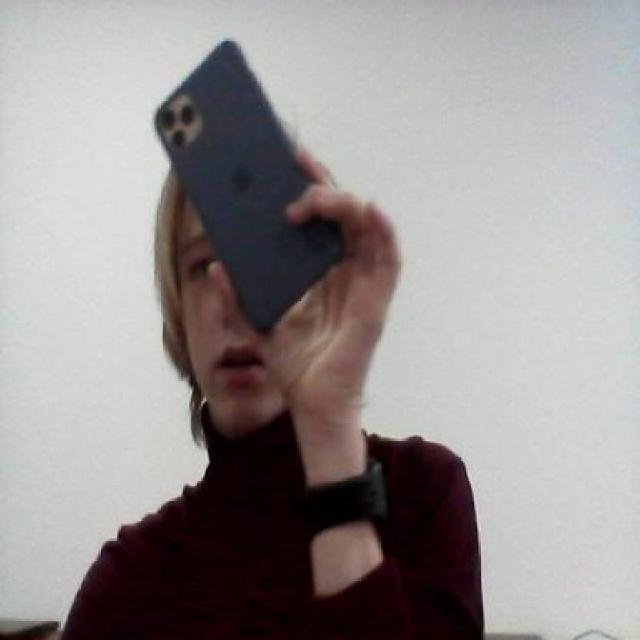lens: (157, 95, 206, 153)
phone: (151, 40, 348, 335)
